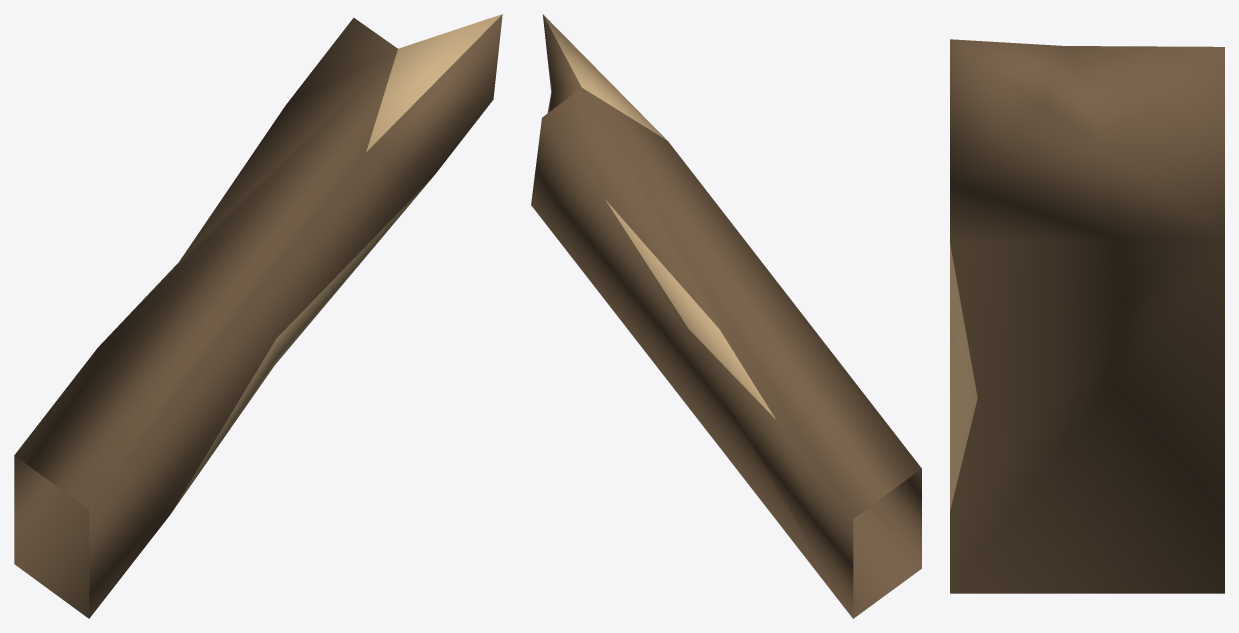
The model's file is rpgpp_av_wall_beam_03_3x3.fbx.
3 renders of one model, left to right at view 1: azimuth 30°, elevation 25°; view 2: azimuth 150°, elevation 25°; view 3: azimuth 270°, elevation 25°, orthographic. The views are drawn at different scales.
Parts seen in each view (by area): view 1: rpgpp_av_wall_beam_03_3x3; view 2: rpgpp_av_wall_beam_03_3x3; view 3: rpgpp_av_wall_beam_03_3x3.
Boxes of the visible parts, <box> form: rpgpp_av_wall_beam_03_3x3: <box>14,14,502,618</box>; rpgpp_av_wall_beam_03_3x3: <box>531,14,921,618</box>; rpgpp_av_wall_beam_03_3x3: <box>950,39,1224,593</box>.
Size of the model in its own units: 1.75 by 2.04 by 0.549.
